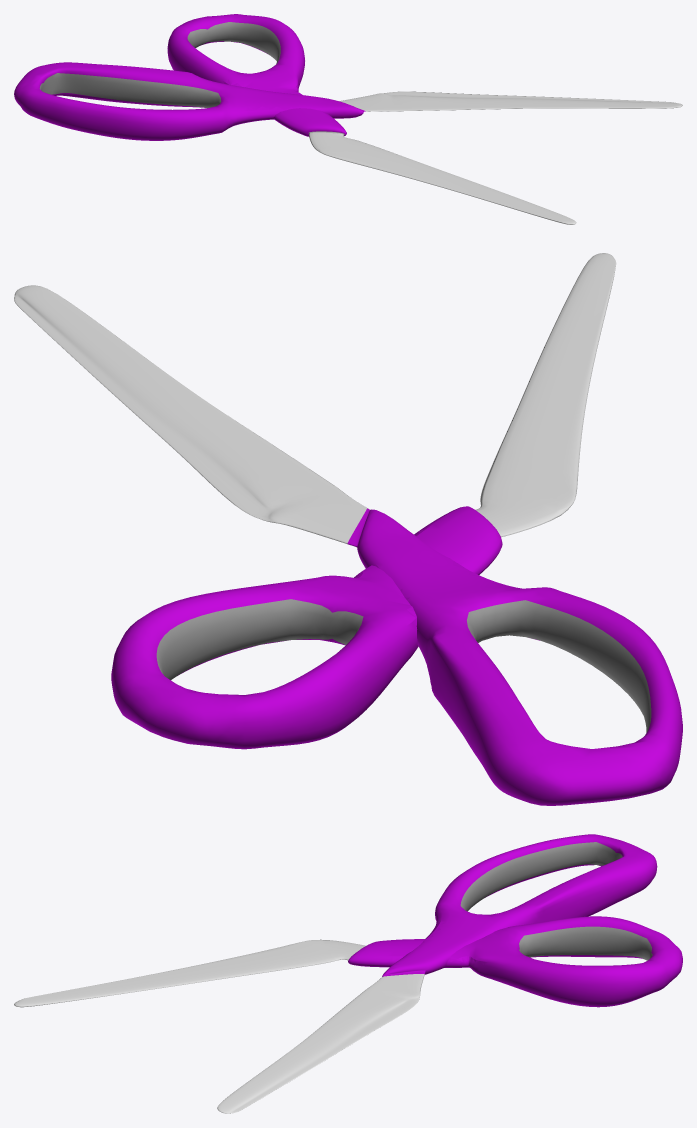
File: scissors.fbx
3 renders of one model, top to bottom at view 1: azimuth 30°, elevation 25°; view 2: azimuth 150°, elevation 25°; view 3: azimuth 270°, elevation 25°, orthographic. The views are drawn at different scales.
Visible parts, largest first — view 1: polySurface1; view 2: polySurface1; view 3: polySurface1.
Part boxes in pixels (left/top/right/bottom): polySurface1: left=14, top=14, right=682, bottom=224; polySurface1: left=14, top=253, right=682, bottom=805; polySurface1: left=14, top=834, right=682, bottom=1113.
Size of the model in its own units: 349 by 23.48 by 366.
